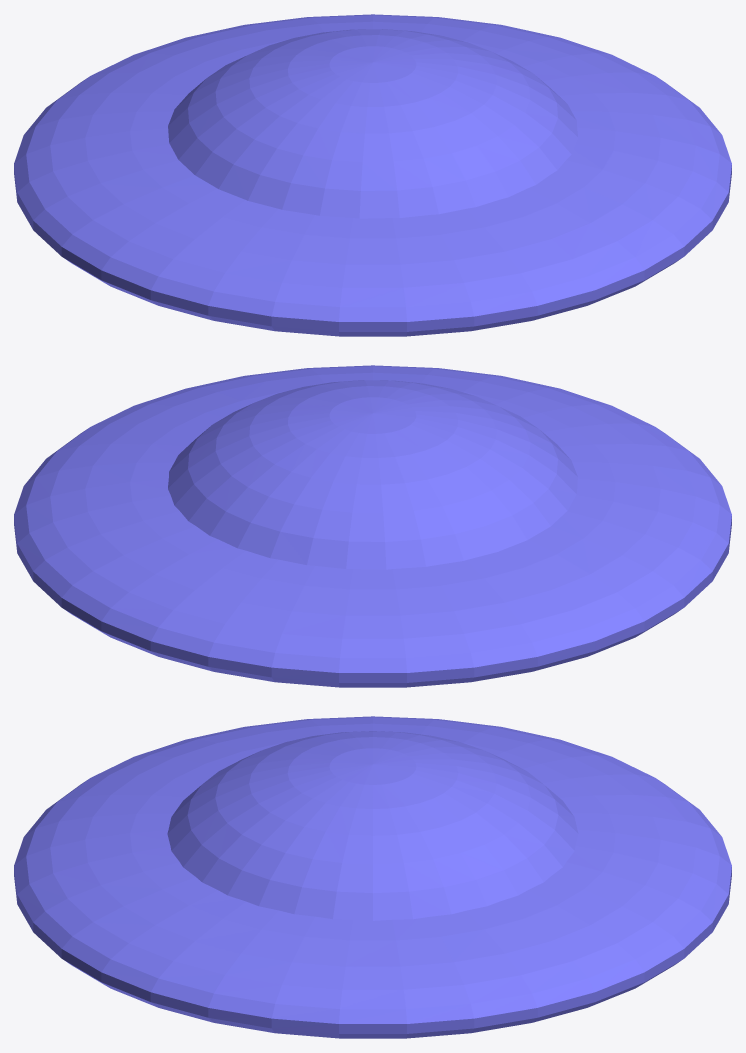
File: ufo2.obj
3 views of the same model, one above another, from view 1: azimuth 30°, elevation 25°; view 2: azimuth 150°, elevation 25°; view 3: azimuth 270°, elevation 25° (orthographic).
Parts seen in each view (by area): view 1: Sphere.001; view 2: Sphere.001; view 3: Sphere.001.
Part boxes in pixels (bbox=[...]): Sphere.001: bbox=[14, 14, 731, 336]; Sphere.001: bbox=[14, 365, 731, 687]; Sphere.001: bbox=[14, 716, 731, 1038].
Bounding box in the file's own units: 3.97 × 1.39 × 3.98.
Materials: 2 (2 with a texture image).
